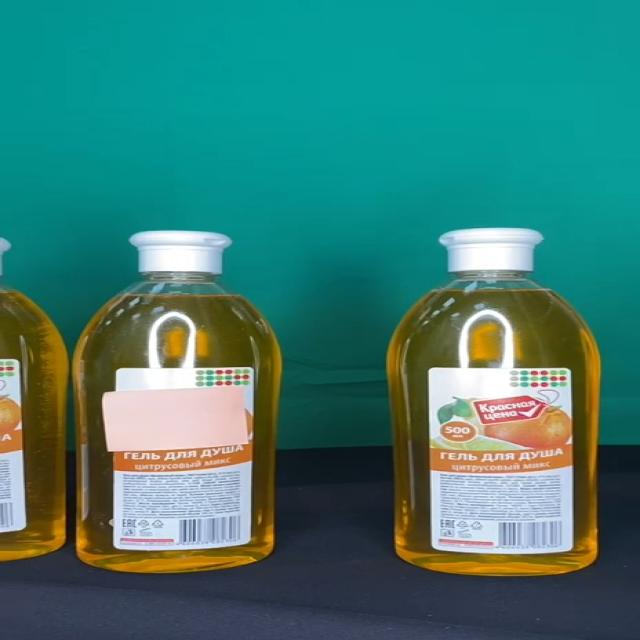Bottle: (384, 229, 602, 575), (73, 230, 284, 573)
Cap: (438, 229, 544, 272), (129, 230, 231, 274)
